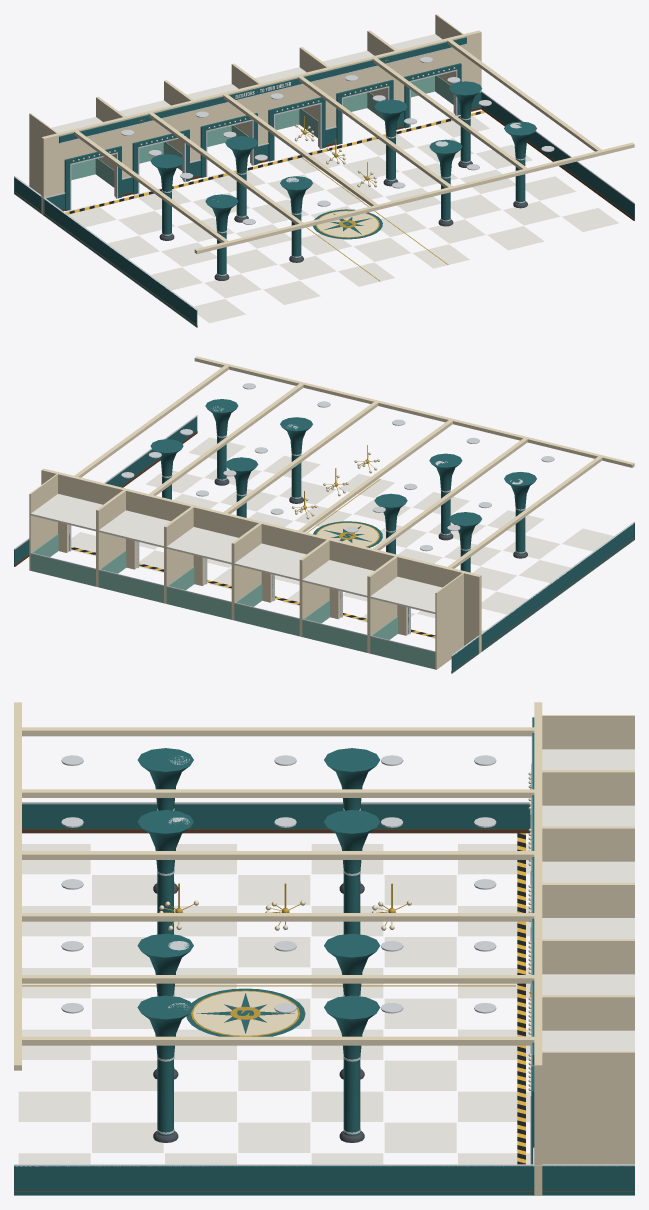
File: Lobby_ShowroomHall.fbx
The picture shows the model from 3 angles, top to bottom: view 1: azimuth 30°, elevation 25°; view 2: azimuth 150°, elevation 25°; view 3: azimuth 270°, elevation 25°; orthographic projection. The views are drawn at different scales.
Parts seen in each view (by area): view 1: Decor, DecorNeonCream; view 2: Decor; view 3: Decor, DecorNeonCream.
Part boxes in pixels (box(x1,y1,x2,y2)): Decor: box(14, 14, 634, 327); DecorNeonCream: box(72, 67, 455, 187); Decor: box(14, 356, 634, 673); Decor: box(14, 702, 634, 1195); DecorNeonCream: box(159, 772, 531, 1090).
Bounding box in the file's own units: 129 × 21.6 × 93.3.
